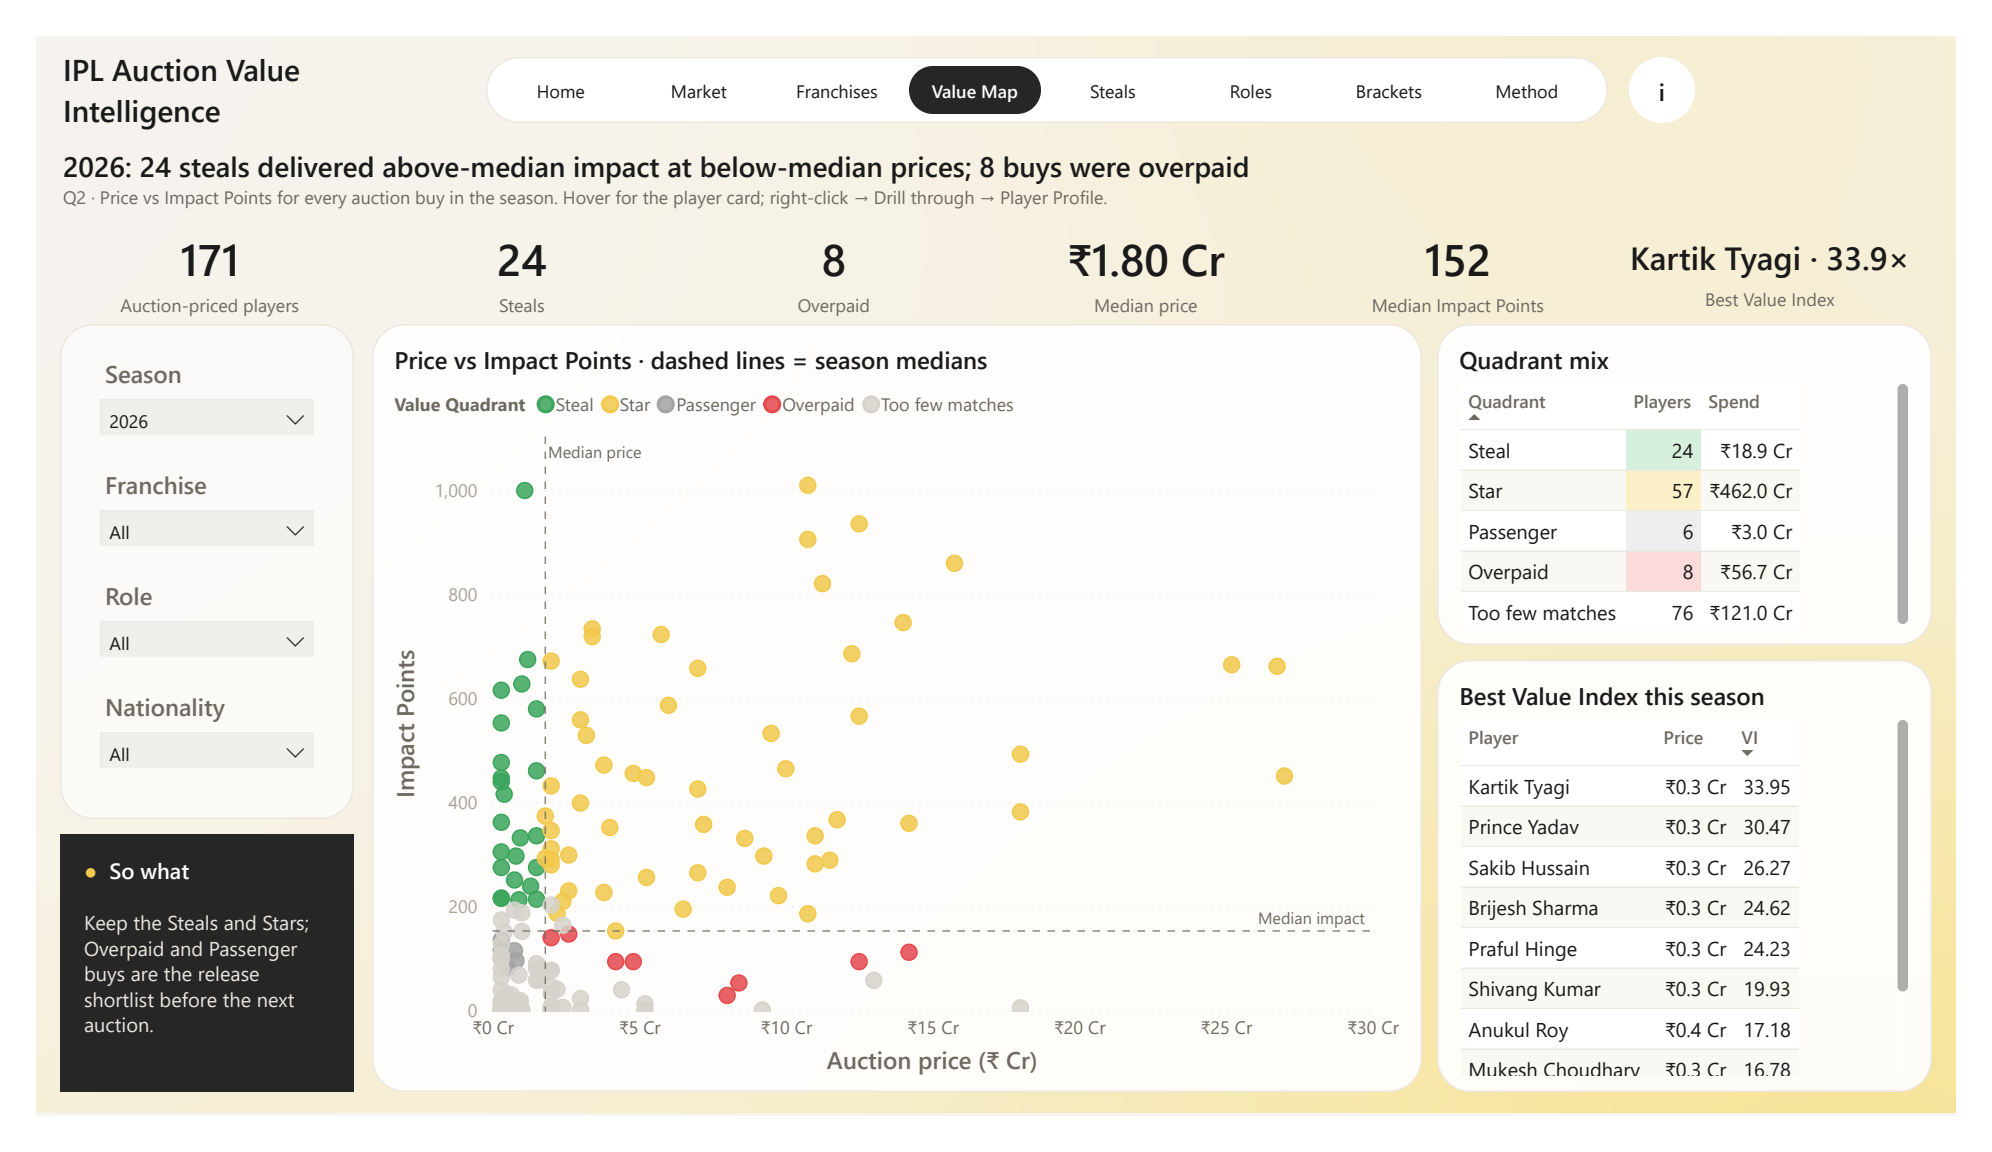

What the dashboard file says about the page in this screenshot:
{"tool":"powerbi","page":{"name":"3 Player Value Map","canvas":[1280,720],"ordinal":3},"visuals":[{"type":"textbox","box":[16,8,270,66],"z":1000},{"type":"textbox","box":[300,14,748,44],"z":2000},{"type":"actionButton","title":"Home","box":[306,20,88,32],"z":3000},{"type":"actionButton","title":"Market","box":[398,20,88,32],"z":4000},{"type":"actionButton","title":"Franchises","box":[490,20,88,32],"z":5000},{"type":"actionButton","title":"Value Map","box":[582,20,88,32],"z":6000},{"type":"actionButton","title":"Steals","box":[674,20,88,32],"z":7000},{"type":"actionButton","title":"Roles","box":[766,20,88,32],"z":8000},{"type":"actionButton","title":"Brackets","box":[858,20,88,32],"z":9000},{"type":"actionButton","title":"Method","box":[950,20,88,32],"z":10000},{"type":"actionButton","title":"i","box":[1062,14,44,44],"z":11000},{"type":"textbox","box":[16,74,1248,50],"z":12000},{"type":"card","fields":{"Values":["_Measures.Priced Player Seasons"]},"box":[16,126,200,62],"z":13000},{"type":"card","fields":{"Values":["_Measures.Steal Count"]},"box":[224,126,200,62],"z":14000},{"type":"card","fields":{"Values":["_Measures.Overpaid Count"]},"box":[432,126,200,62],"z":15000},{"type":"card","fields":{"Values":["_Measures.Median Priced Price Cr"]},"box":[640,126,200,62],"z":16000},{"type":"card","fields":{"Values":["_Measures.Median Priced Impact"]},"box":[848,126,200,62],"z":17000},{"type":"card","fields":{"Values":["_Measures.Top Steal Label"]},"box":[1056,126,200,62],"z":18000},{"type":"textbox","box":[16,192,196,330],"z":19000},{"type":"slicer","fields":{"Values":["DimSeason.Season"]},"box":[24,202,180,64],"z":20000},{"type":"slicer","fields":{"Values":["DimTeam.TeamName"]},"box":[24,276,180,64],"z":21000},{"type":"slicer","fields":{"Values":["DimPlayer.Role"]},"box":[24,350,180,64],"z":22000},{"type":"slicer","fields":{"Values":["DimPlayer.Nationality"]},"box":[24,424,180,64],"z":23000},{"type":"textbox","box":[16,532,196,172],"z":24000},{"type":"scatterChart","title":"Price vs Impact Points · dashed lines = season medians","fields":{"Category":["DimPlayer.PlayerName"],"Series":["FactPlayerSeason.Value Quadrant"],"X":["_Measures.Spend Cr"],"Y":["_Measures.Priced Impact"]},"box":[224,192,700,512],"z":25000},{"type":"tableEx","title":"Quadrant mix","fields":{"Values":["FactPlayerSeason.Value Quadrant","_Measures.Player Seasons","_Measures.Spend Cr"]},"box":[934,192,330,214],"z":26000},{"type":"tableEx","title":"Best Value Index this season","fields":{"Values":["DimPlayer.PlayerName","_Measures.Spend Cr","_Measures.Value Index (min 5 matches)"]},"box":[934,416,330,288],"z":27000}]}

Visuals, with their boxes in screenshot pixels (x1, y1, x2, y2), scaled from the page's 1280x720 canvas onto the 1992x1152 screenshot:
textbox: {"x1": 25, "y1": 13, "x2": 445, "y2": 118}
textbox: {"x1": 467, "y1": 22, "x2": 1631, "y2": 93}
"Home" actionButton: {"x1": 476, "y1": 32, "x2": 613, "y2": 83}
"Market" actionButton: {"x1": 619, "y1": 32, "x2": 756, "y2": 83}
"Franchises" actionButton: {"x1": 763, "y1": 32, "x2": 900, "y2": 83}
"Value Map" actionButton: {"x1": 906, "y1": 32, "x2": 1043, "y2": 83}
"Steals" actionButton: {"x1": 1049, "y1": 32, "x2": 1186, "y2": 83}
"Roles" actionButton: {"x1": 1192, "y1": 32, "x2": 1329, "y2": 83}
"Brackets" actionButton: {"x1": 1335, "y1": 32, "x2": 1472, "y2": 83}
"Method" actionButton: {"x1": 1478, "y1": 32, "x2": 1615, "y2": 83}
"i" actionButton: {"x1": 1653, "y1": 22, "x2": 1721, "y2": 93}
textbox: {"x1": 25, "y1": 118, "x2": 1967, "y2": 198}
card - _Measures.Priced Player Seasons: {"x1": 25, "y1": 202, "x2": 336, "y2": 301}
card - _Measures.Steal Count: {"x1": 349, "y1": 202, "x2": 660, "y2": 301}
card - _Measures.Overpaid Count: {"x1": 672, "y1": 202, "x2": 984, "y2": 301}
card - _Measures.Median Priced Price Cr: {"x1": 996, "y1": 202, "x2": 1307, "y2": 301}
card - _Measures.Median Priced Impact: {"x1": 1320, "y1": 202, "x2": 1631, "y2": 301}
card - _Measures.Top Steal Label: {"x1": 1643, "y1": 202, "x2": 1955, "y2": 301}
textbox: {"x1": 25, "y1": 307, "x2": 330, "y2": 835}
slicer - DimSeason.Season: {"x1": 37, "y1": 323, "x2": 317, "y2": 426}
slicer - DimTeam.TeamName: {"x1": 37, "y1": 442, "x2": 317, "y2": 544}
slicer - DimPlayer.Role: {"x1": 37, "y1": 560, "x2": 317, "y2": 662}
slicer - DimPlayer.Nationality: {"x1": 37, "y1": 678, "x2": 317, "y2": 781}
textbox: {"x1": 25, "y1": 851, "x2": 330, "y2": 1126}
"Price vs Impact Points · dashed lines = season medians" scatterChart: {"x1": 349, "y1": 307, "x2": 1438, "y2": 1126}
"Quadrant mix" tableEx: {"x1": 1454, "y1": 307, "x2": 1967, "y2": 650}
"Best Value Index this season" tableEx: {"x1": 1454, "y1": 666, "x2": 1967, "y2": 1126}
